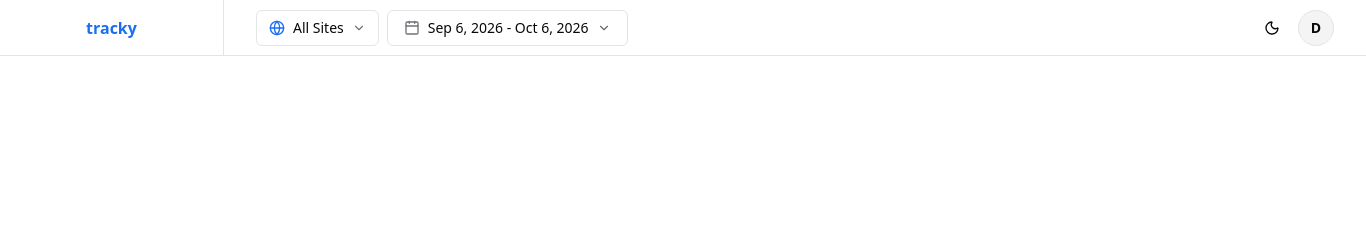
Test: Navbar user avatar dropdown menu › displays the user name as a circular button icon with first initial instead of actual name, and toggles dropdown menu on click
The width and height of the screenshot is (1366, 238).
expect the text "Demo Analyst" is not shown: met
expect the text "Sign Out" is not shown: met
Click circular avatar button to open dropdown menu
Click the button named "user menu" at (1316, 28), box [1298, 10, 1334, 46]
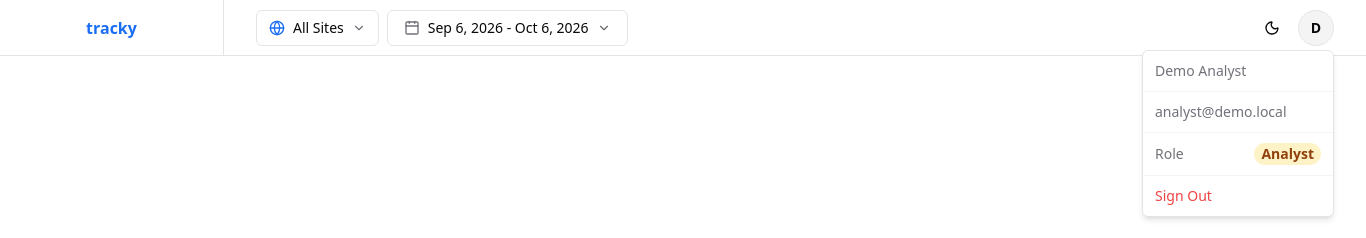
expect the text "Role" is shown: met, box [1155, 144, 1184, 164]
expect the text "Analyst" is shown: met, box [1254, 143, 1321, 165]
expect the text "Sign Out" is shown: met, box [1155, 186, 1212, 206]
Click Sign Out and verify logout
Click the menu item "Sign Out" at (1238, 196), box [1147, 180, 1329, 212]
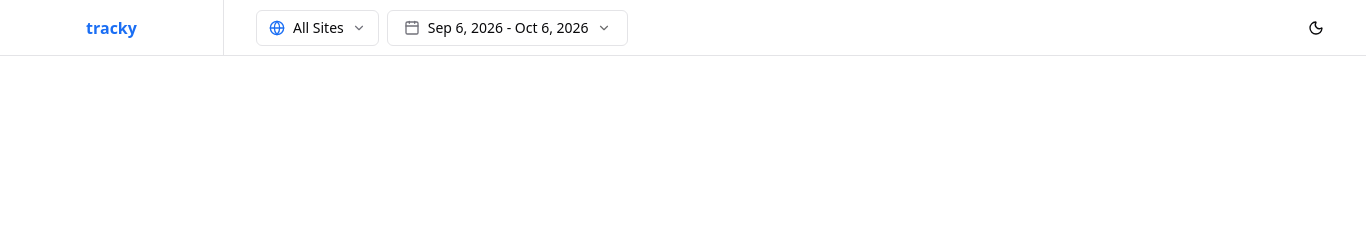
expect the button "user menu" is gone: met
